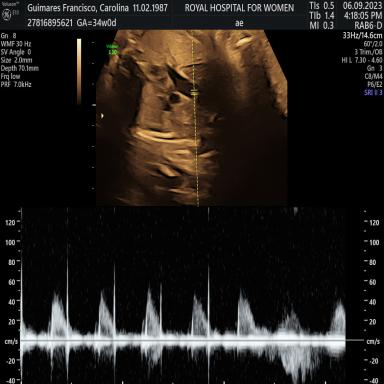Ultrasound-Waves: (26, 209, 345, 384)
